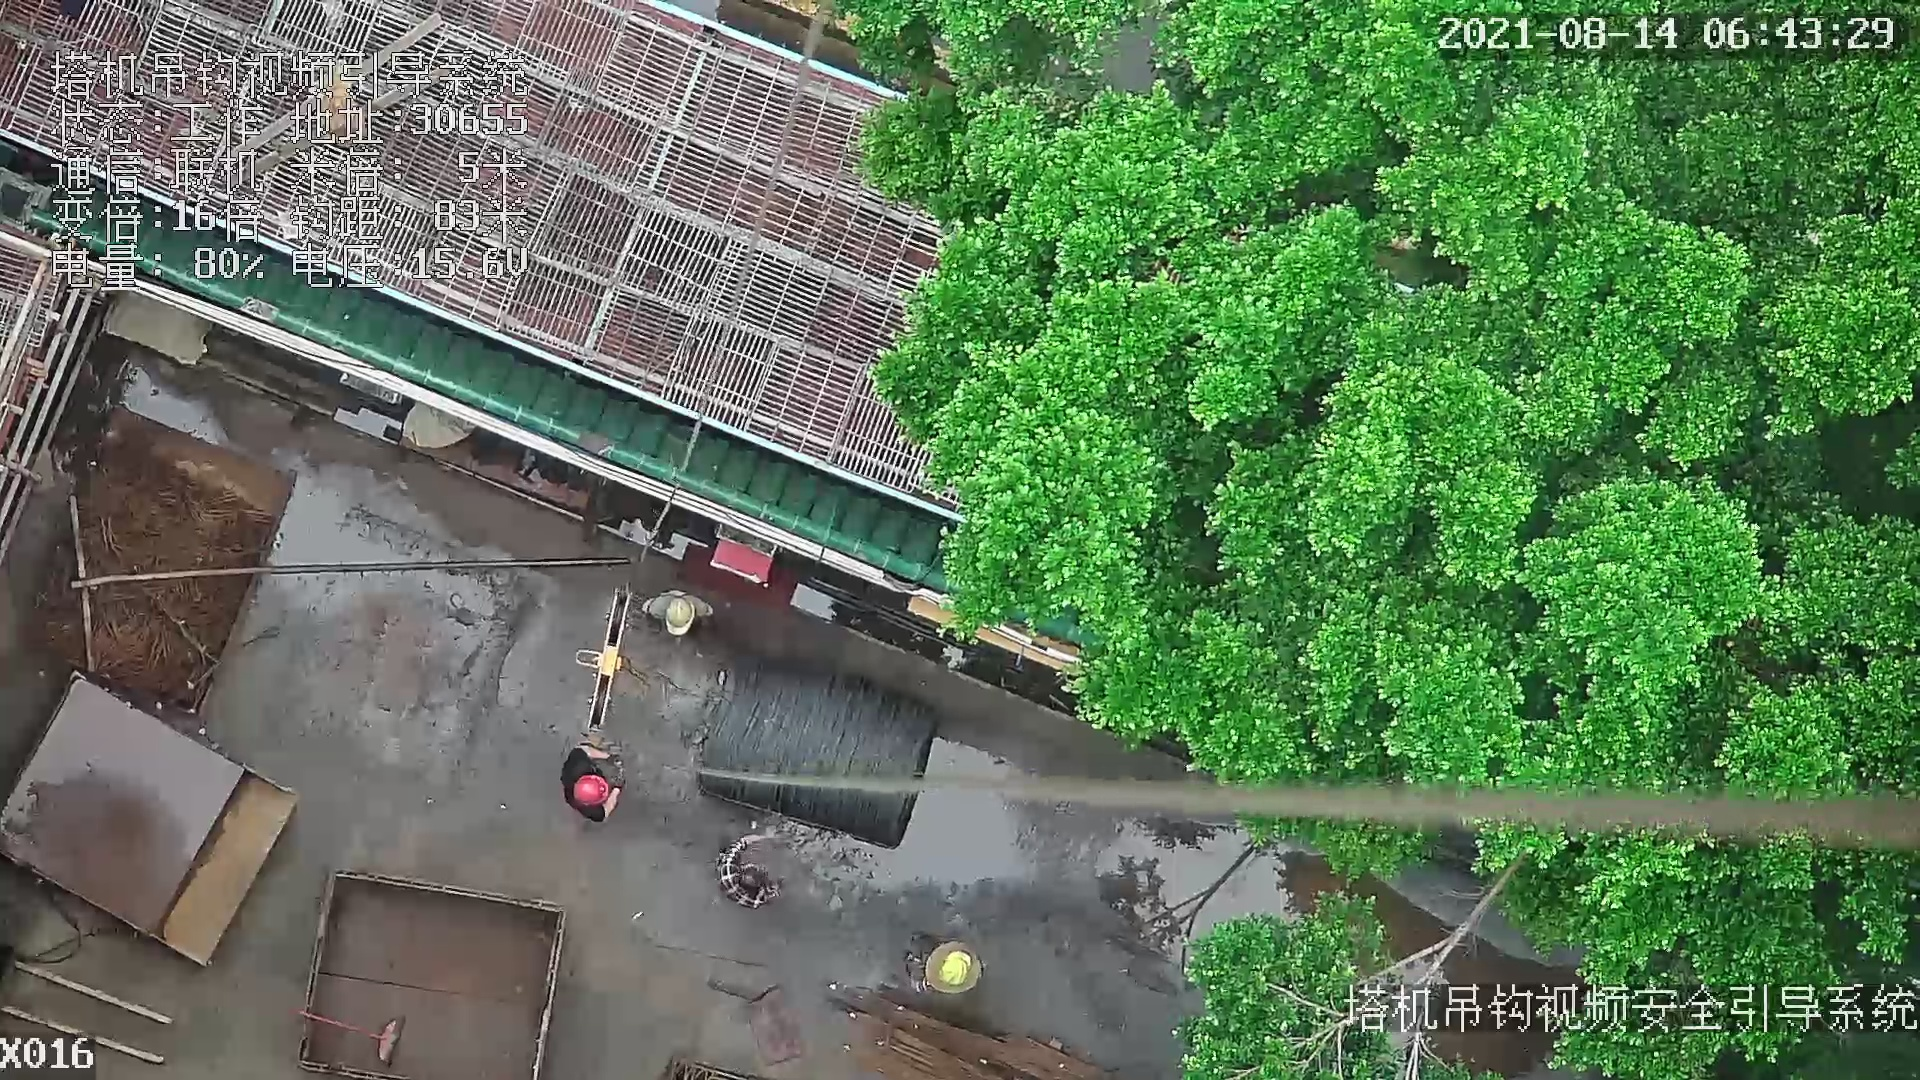helmet: (938, 950, 980, 986), (571, 776, 610, 811), (664, 602, 695, 635)
person: (704, 811, 796, 915), (558, 742, 632, 832), (896, 935, 986, 1004), (644, 583, 727, 644)
